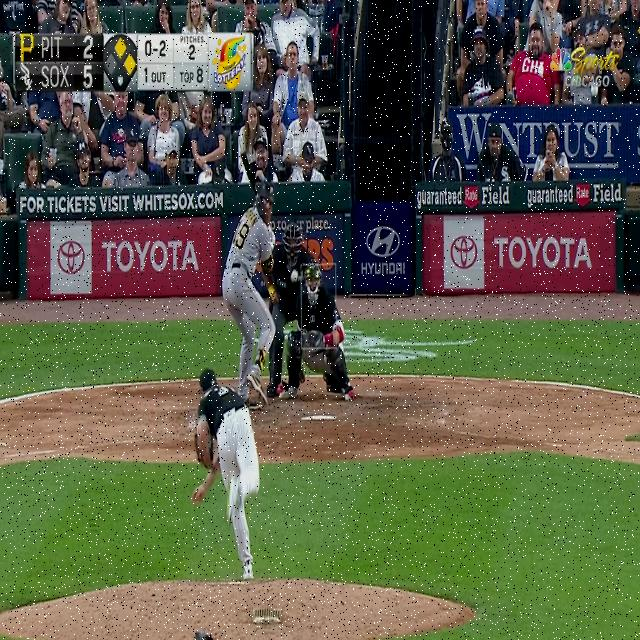baseball: (290, 269, 298, 283)
